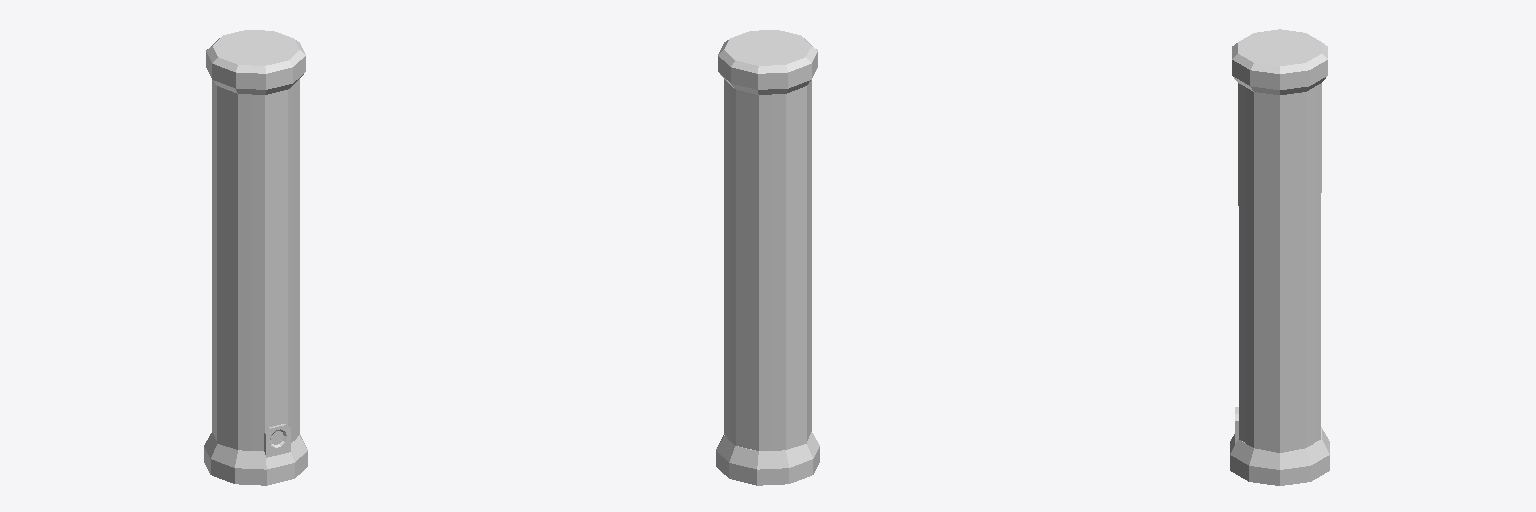
The model's file is stg600_obj_longtank.obj.
The picture shows the model from 3 angles: view 1: azimuth 30°, elevation 25°; view 2: azimuth 150°, elevation 25°; view 3: azimuth 270°, elevation 25°; orthographic projection.
Parts seen in each view (by area): view 1: polygon2, polygon3, polygon0; view 2: polygon2, polygon3, polygon0; view 3: polygon2, polygon0, polygon3.
Part boxes in pixels (x1,y1,x2,y2): polygon2: (212,79,299,450); polygon3: (252,85,293,450); polygon0: (204,30,307,485); polygon2: (724,79,811,450); polygon3: (730,85,771,450); polygon0: (716,30,819,485); polygon2: (1246,88,1313,452); polygon0: (1230,29,1329,485); polygon3: (1238,83,1321,442).
Bounding box in the file's own units: 20.51 × 90 × 19.51.